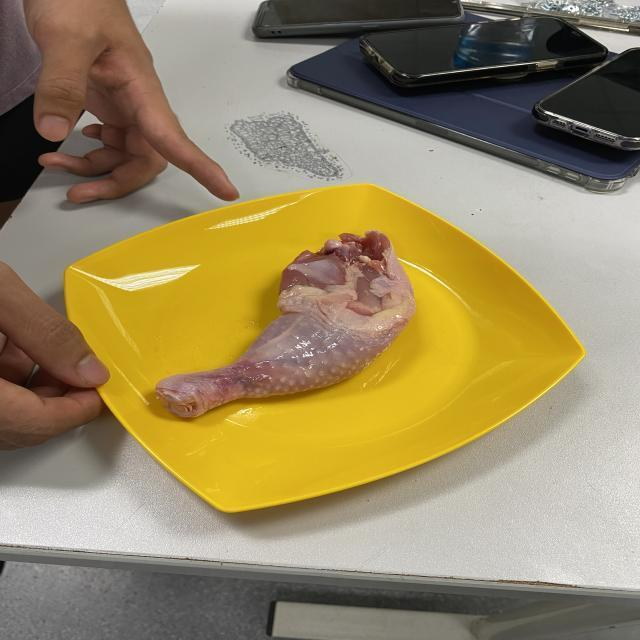quater: (165, 232, 412, 424)
